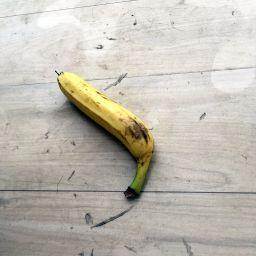Banana Ripe: (57, 69, 160, 202)
